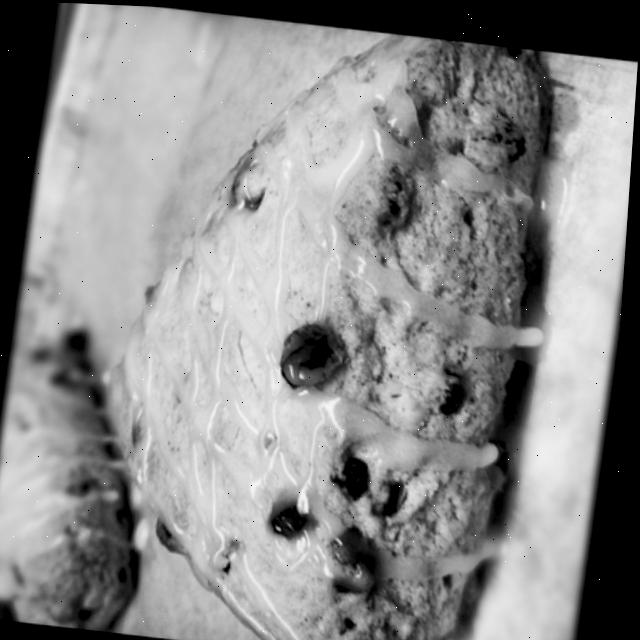面包点心: (15, 4, 621, 640)
